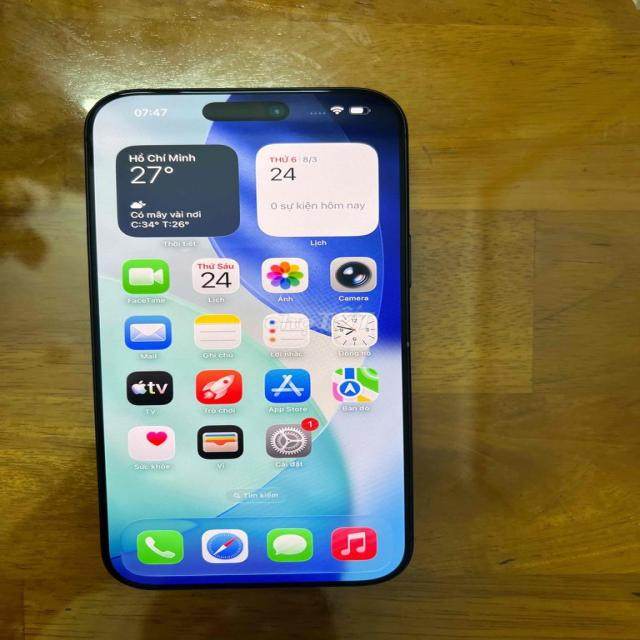gen_17: (82, 83, 417, 592)
